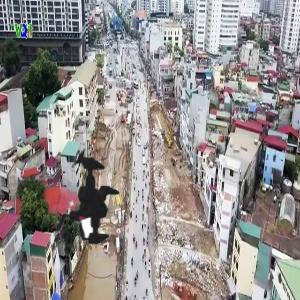drone: (12, 129, 155, 272)
